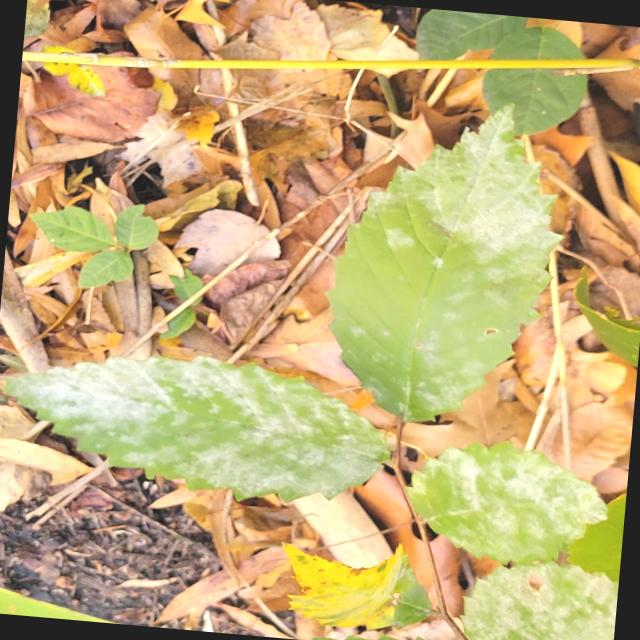powdery_mildew: (328, 106, 559, 421), (6, 356, 388, 500), (408, 442, 606, 565)
